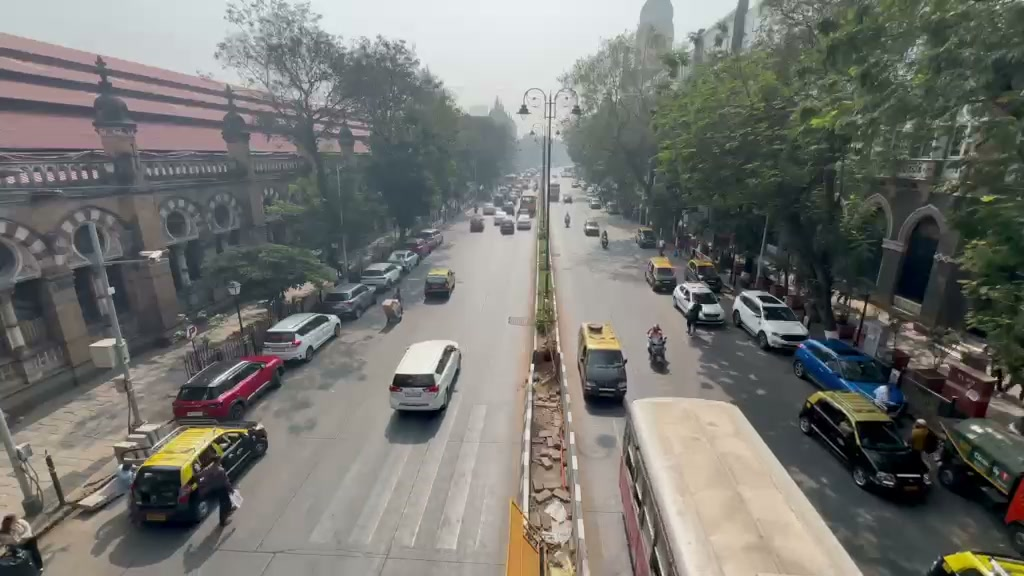bus: (618, 395, 863, 573)
car: (797, 389, 934, 504), (127, 422, 268, 526), (934, 417, 1023, 526), (791, 335, 897, 408), (172, 354, 284, 421), (387, 339, 463, 416), (731, 291, 809, 352), (260, 311, 341, 366), (577, 321, 629, 403), (319, 280, 379, 322), (927, 549, 1023, 575), (672, 281, 721, 316), (685, 297, 727, 329), (644, 256, 679, 294), (360, 261, 403, 288), (424, 267, 455, 303), (386, 249, 419, 271), (497, 215, 516, 235), (468, 214, 485, 234), (583, 220, 598, 236)
truck: (890, 319, 997, 420)
